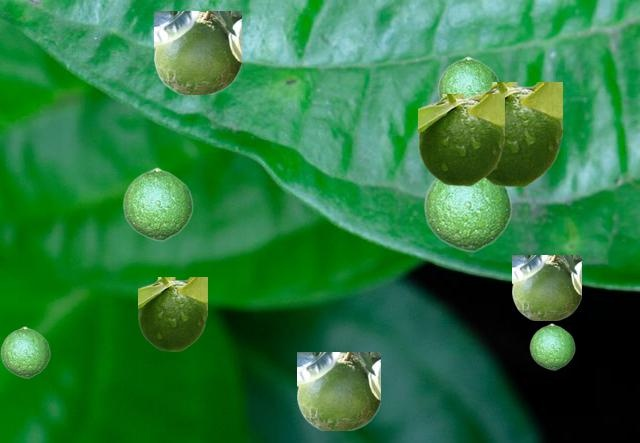dalandan: (467, 82, 561, 186), (418, 94, 503, 185), (154, 11, 240, 93), (423, 178, 511, 251), (297, 352, 379, 429), (122, 167, 192, 240), (138, 277, 206, 350), (512, 255, 580, 319), (437, 56, 499, 99), (0, 326, 49, 377), (529, 323, 574, 369)
